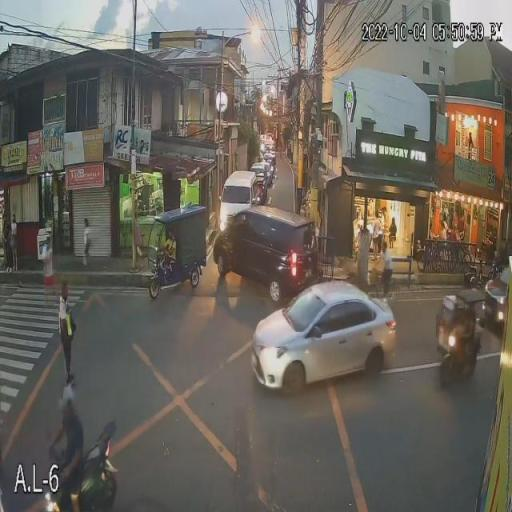helmet: (49, 381, 89, 416)
motorcycle: (32, 418, 139, 511)
rider: (48, 411, 98, 512)
